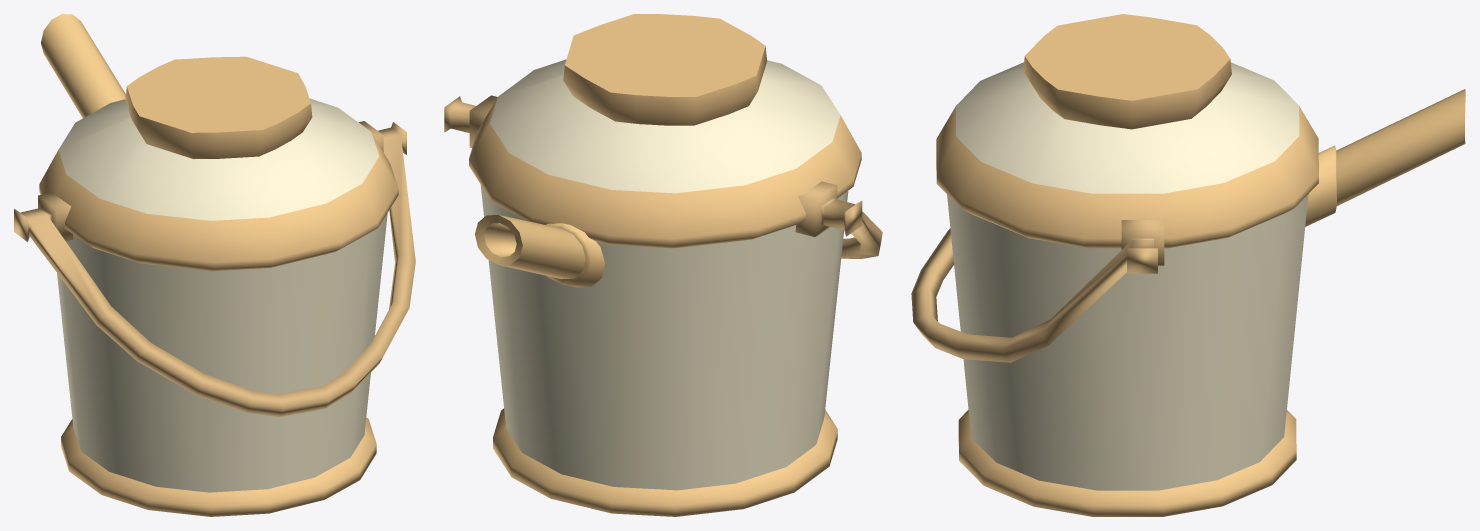
Rendered from Regador.fbx.
The picture shows the model from 3 angles, left to right: view 1: azimuth 30°, elevation 25°; view 2: azimuth 150°, elevation 25°; view 3: azimuth 270°, elevation 25°; orthographic projection. The views are drawn at different scales.
Parts seen in each view (by area): view 1: Garden_House_Main.004; view 2: Garden_House_Main.004; view 3: Garden_House_Main.004.
Part boxes in pixels (x1,y1,x2,y2): Garden_House_Main.004: (14, 14, 415, 516); Garden_House_Main.004: (444, 14, 882, 516); Garden_House_Main.004: (911, 14, 1465, 516).
Size of the model in its own units: 76.26 by 69.27 by 89.63.
